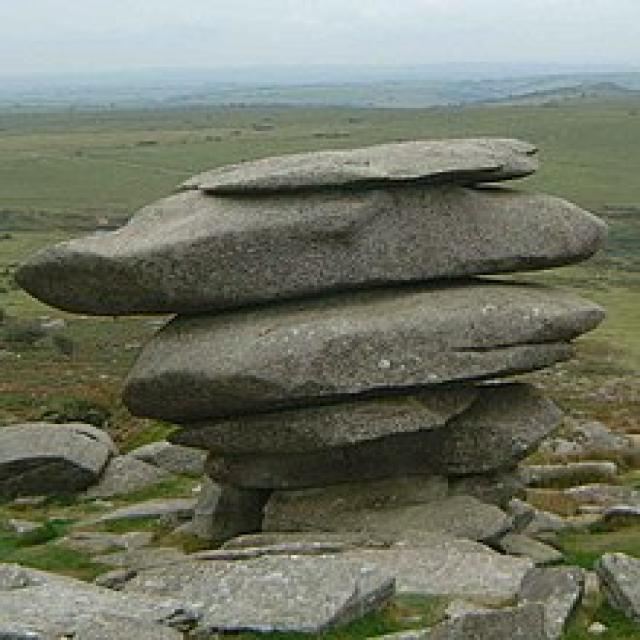Igneous: (6, 128, 602, 480)
